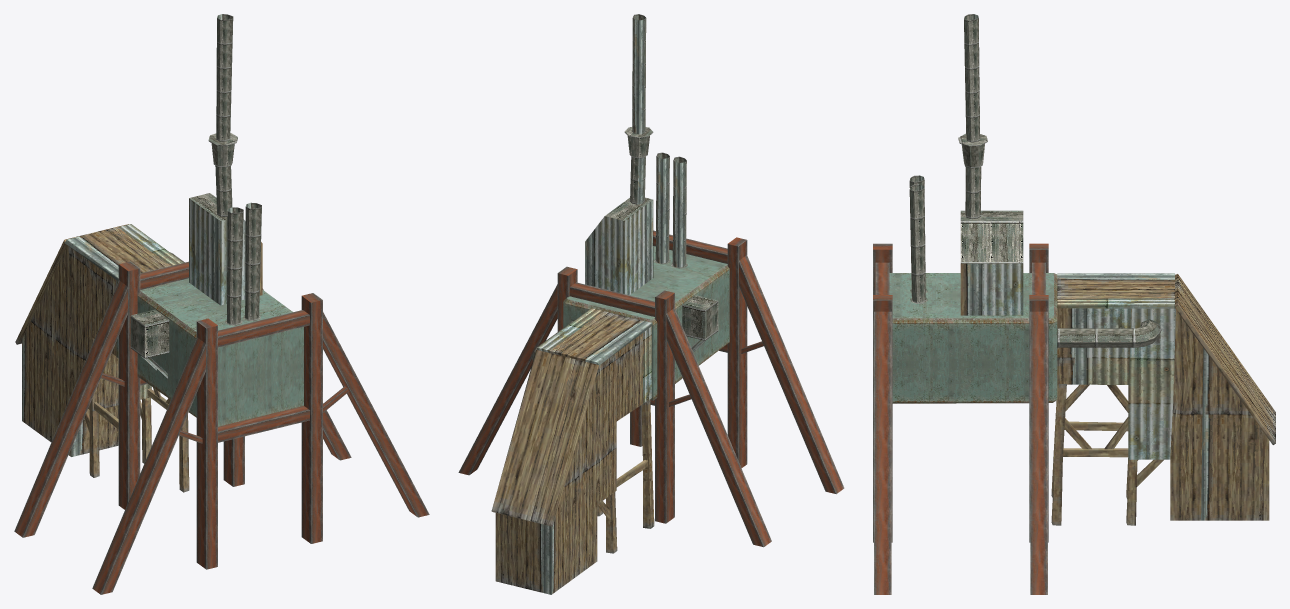
Rendered from C2SMMINEREF1H.obj.
3 views of the same model, side by side, from view 1: azimuth 30°, elevation 25°; view 2: azimuth 150°, elevation 25°; view 3: azimuth 270°, elevation 25° (orthographic). The views are drawn at different scales.
Visible parts, largest first — view 1: Node 0; view 2: Node 0; view 3: Node 0.
Boxes of the visible parts, bbox=[...] form: Node 0: bbox=[14, 14, 429, 594]; Node 0: bbox=[458, 14, 844, 594]; Node 0: bbox=[873, 14, 1275, 594].
Bounding box in the file's own units: 35.7 × 52.37 × 37.82.
Materials: 3 (3 with a texture image).
